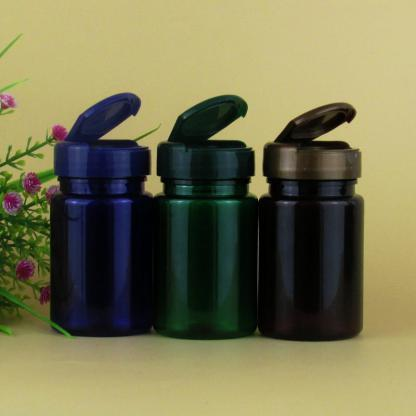jar: (257, 101, 365, 341), (153, 95, 258, 339), (50, 93, 153, 336)
